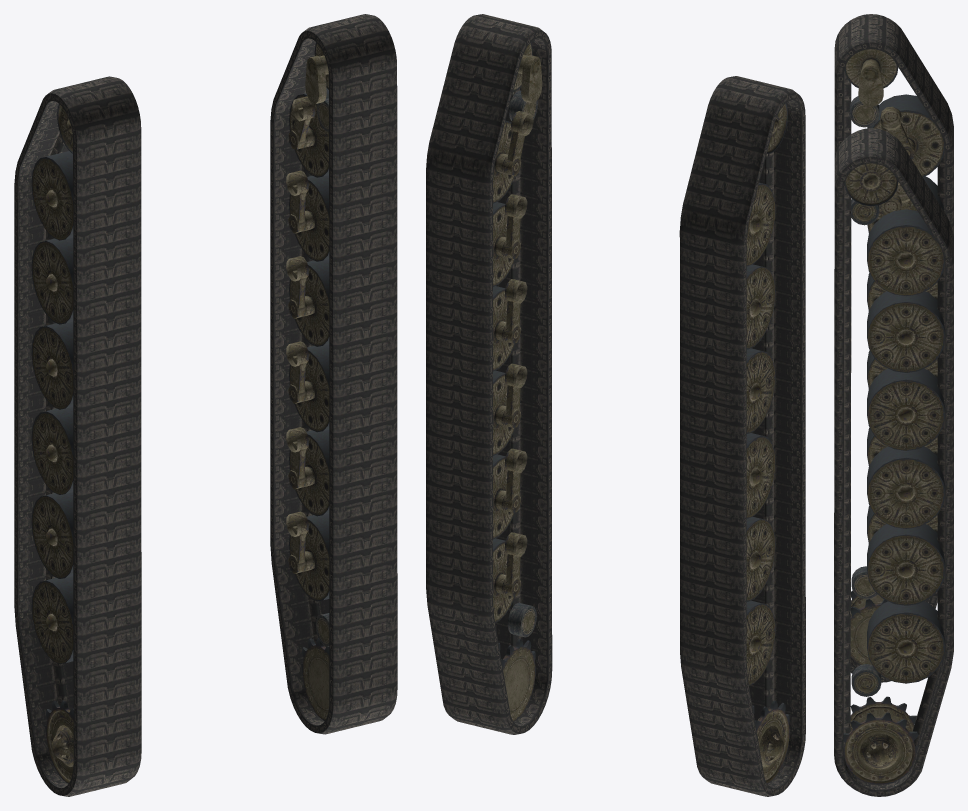
Rendered from Chassis.glb.
3 renders of one model, left to right at view 1: azimuth 30°, elevation 25°; view 2: azimuth 150°, elevation 25°; view 3: azimuth 270°, elevation 25°, orthographic. The views are drawn at different scales.
Visible parts, largest first — view 1: set_0_group_0, set_1_group_0, set_3_group_0, set_2_group_0; view 2: set_0_group_0, set_1_group_0, set_3_group_0, set_2_group_0; view 3: set_3_group_0, set_1_group_0, set_2_group_0, set_0_group_0.
Part boxes in pixels (box(x1,y1,x2,y2)): set_0_group_0: box(14, 76, 141, 796); set_1_group_0: box(270, 14, 397, 734); set_3_group_0: box(286, 42, 329, 720); set_2_group_0: box(31, 104, 73, 783); set_0_group_0: box(679, 76, 805, 796); set_1_group_0: box(426, 14, 552, 734); set_3_group_0: box(493, 42, 542, 721); set_2_group_0: box(746, 103, 789, 783); set_3_group_0: box(843, 163, 945, 784); set_1_group_0: box(834, 128, 953, 796); set_2_group_0: box(844, 49, 944, 664); set_0_group_0: box(834, 14, 953, 682).
Bounding box in the file's own units: 3.5 × 7.35 × 1.24.
4 materials, 4 textured.
